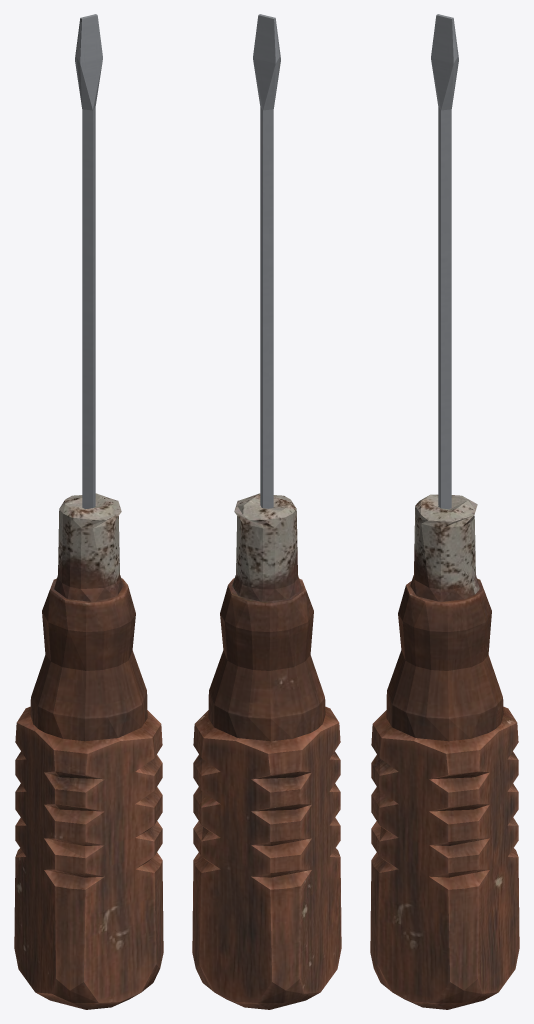
The model's file is FlatheadScrewdriver_LOD1.obj.
3 views of the same model, side by side, from view 1: azimuth 30°, elevation 25°; view 2: azimuth 150°, elevation 25°; view 3: azimuth 330°, elevation 25° (orthographic).
Parts seen in each view (by area): view 1: Cylinder_005; view 2: Cylinder_005; view 3: Cylinder_005.
Part boxes in pixels (x1=…): Cylinder_005: x1=14, y1=14, x2=163, y2=1009; Cylinder_005: x1=192, y1=14, x2=341, y2=1009; Cylinder_005: x1=370, y1=14, x2=519, y2=1009.
Size of the model in its own units: 0.03 by 0.2613 by 0.03.
Materials: 1 (1 with a texture image).
